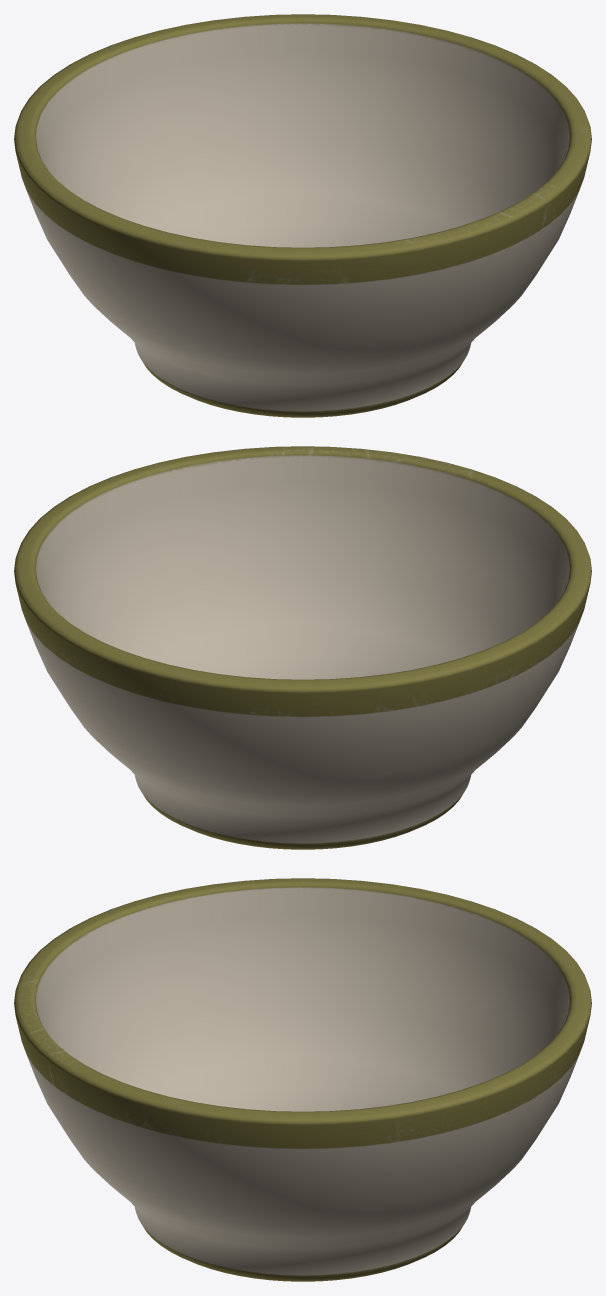
Rendered from SM_Plate_Mug_Bowl_A.fbx.
The picture shows the model from 3 angles, top to bottom: view 1: azimuth 30°, elevation 25°; view 2: azimuth 150°, elevation 25°; view 3: azimuth 270°, elevation 25°; orthographic projection.
Visible parts, largest first — view 1: SM_Plate_Mug_Bowl_A_LOD0; view 2: SM_Plate_Mug_Bowl_A_LOD0; view 3: SM_Plate_Mug_Bowl_A_LOD0.
Boxes of the visible parts, x1,y1,x2,y2 form: SM_Plate_Mug_Bowl_A_LOD0: (14, 14, 591, 417); SM_Plate_Mug_Bowl_A_LOD0: (14, 446, 591, 849); SM_Plate_Mug_Bowl_A_LOD0: (14, 878, 591, 1281).
Size of the model in its own units: 23.38 by 23.38 by 9.83.
Materials: 1 (1 with a texture image).
